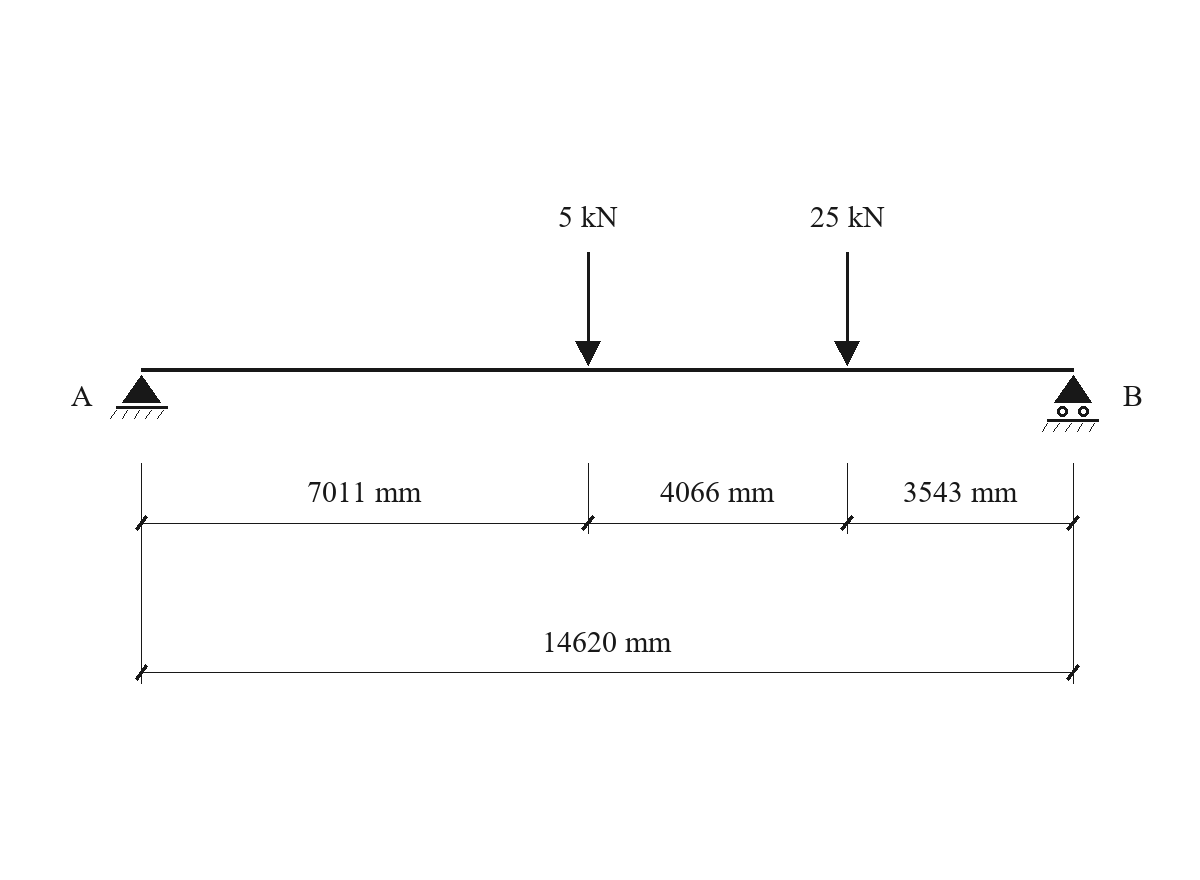pin_support: (110, 375, 168, 419)
point_load: (575, 252, 601, 366), (834, 252, 860, 366)
roller_support: (1042, 375, 1099, 432)
